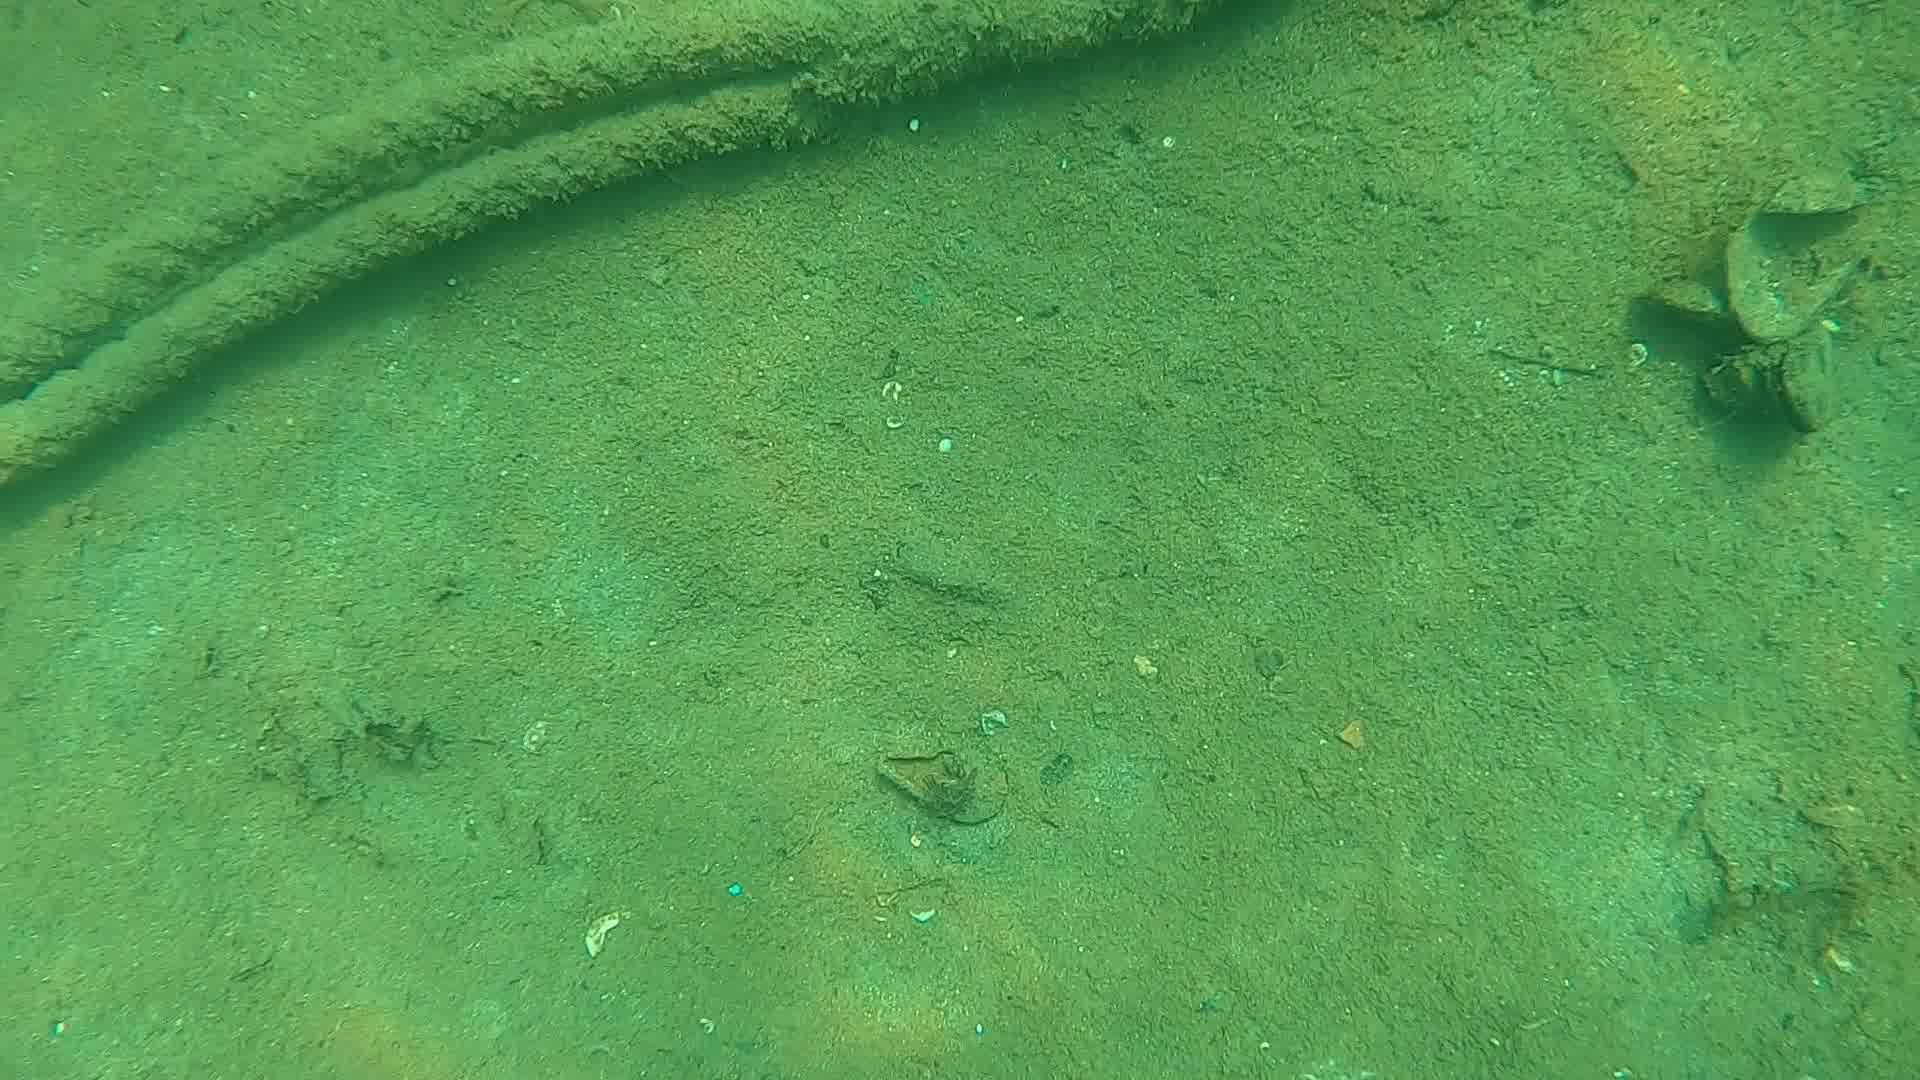bundle of ropes: (0, 0, 818, 487)
